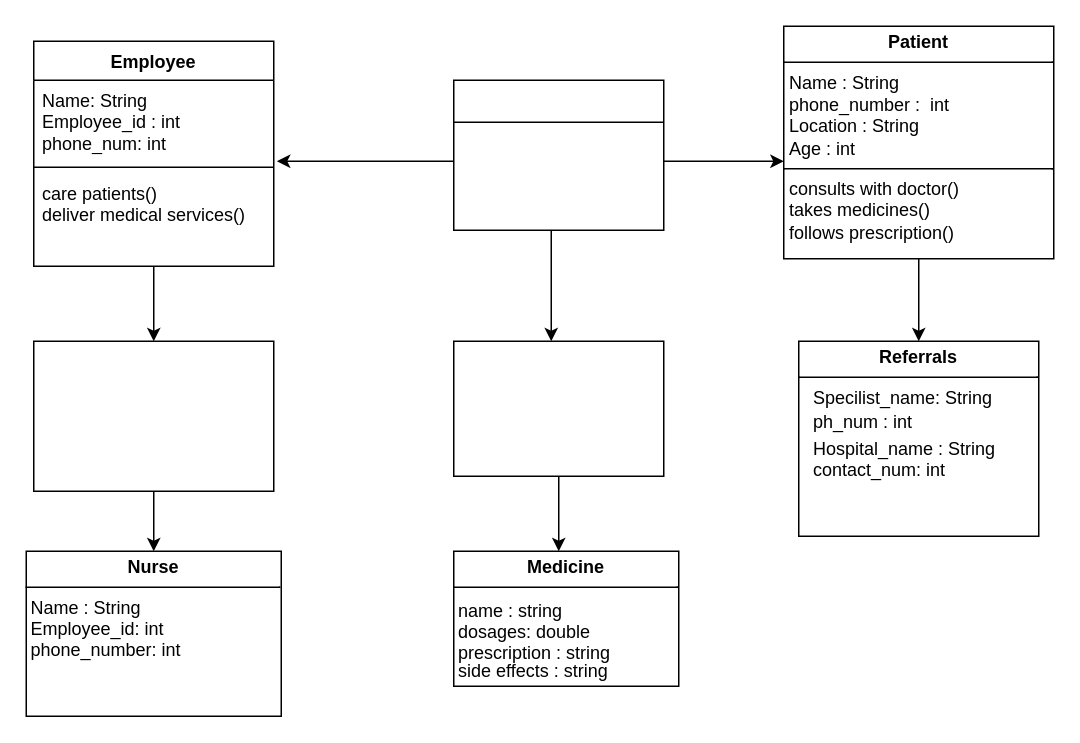
Some shapes in this 1080 by 743 pixel diagram are drawn without their labels. The box of each missing label's shape, as (x1, y1, x2, y2) in pixels:
Appointment date: Date time : Time: (452, 79, 664, 230)
Consultation date: Date note: string: (452, 340, 664, 476)
Doctor Name : String Employee_id: int phone_number: int Specification: string: (32, 340, 274, 491)
